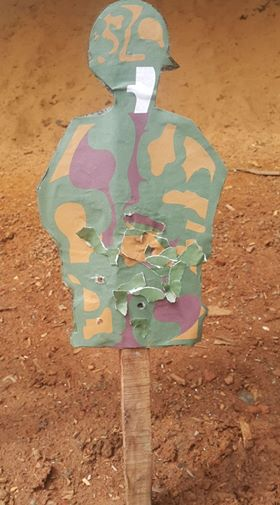Bullet: (136, 302, 145, 309), (96, 276, 105, 283), (97, 318, 103, 324)
